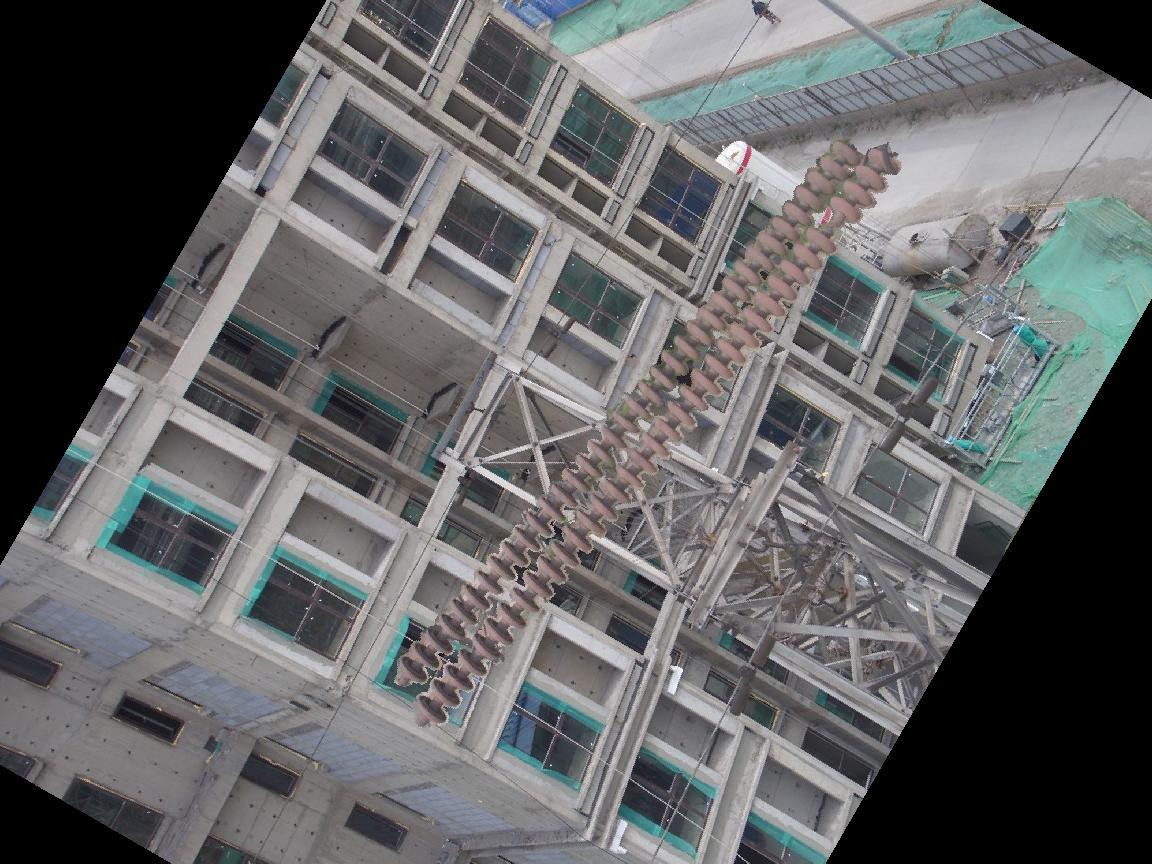insulator: (390, 133, 902, 729)
insulator_stringdrop: (804, 193, 863, 258)
